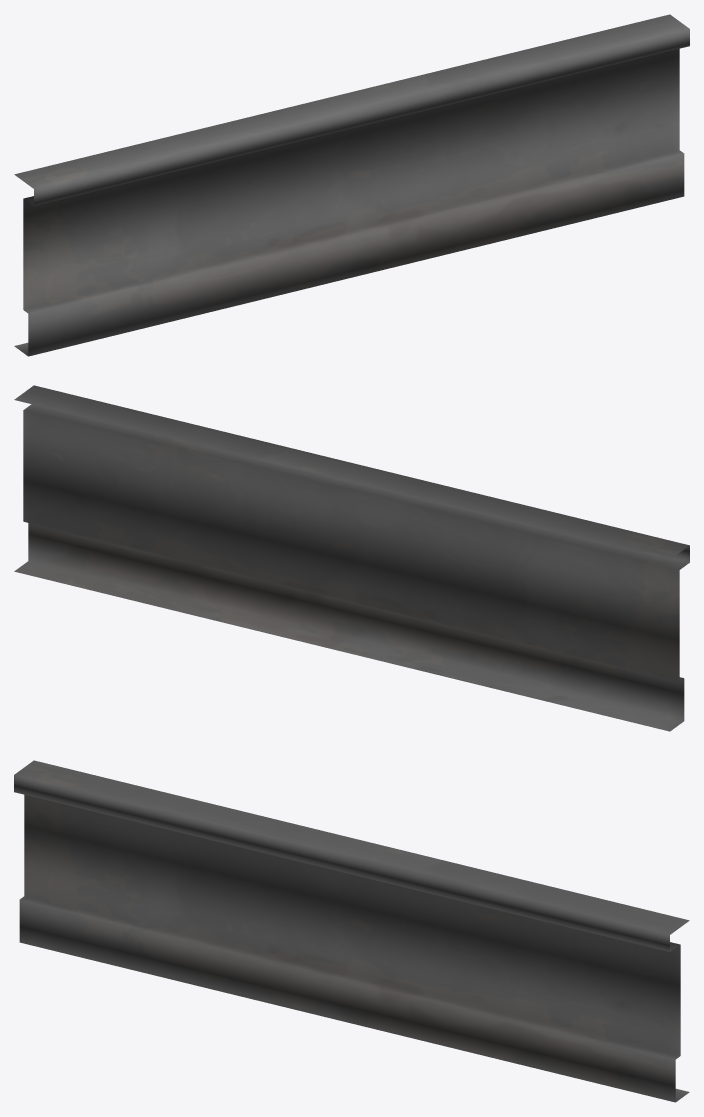
File: Trim_01.fbx
3 views of the same model, one above another, from view 1: azimuth 30°, elevation 25°; view 2: azimuth 150°, elevation 25°; view 3: azimuth 330°, elevation 25° (orthographic).
Parts seen in each view (by area): view 1: Trim_01.002; view 2: Trim_01.002; view 3: Trim_01.002.
Boxes of the visible parts, box(x1,y1,x2,y2) form: Trim_01.002: box(14, 14, 689, 356); Trim_01.002: box(14, 385, 689, 731); Trim_01.002: box(14, 760, 689, 1102).
Bounding box in the file's own units: 4 × 1 × 0.2107.
